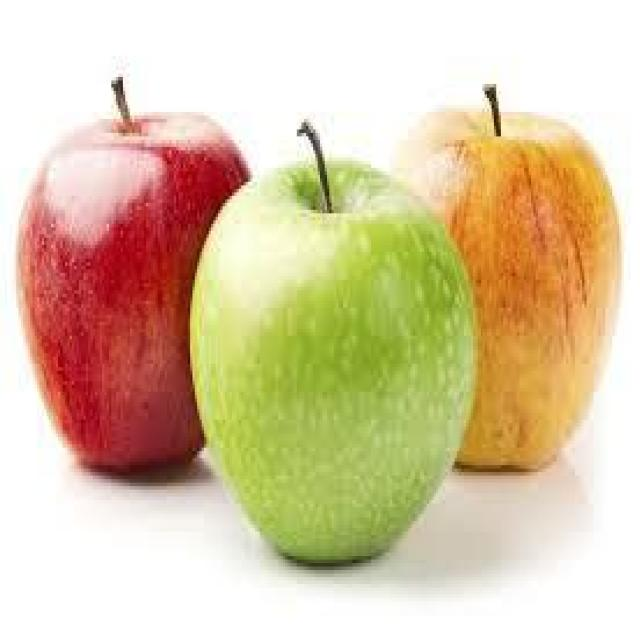maca: (188, 115, 480, 563), (14, 74, 250, 472), (394, 81, 622, 472)
